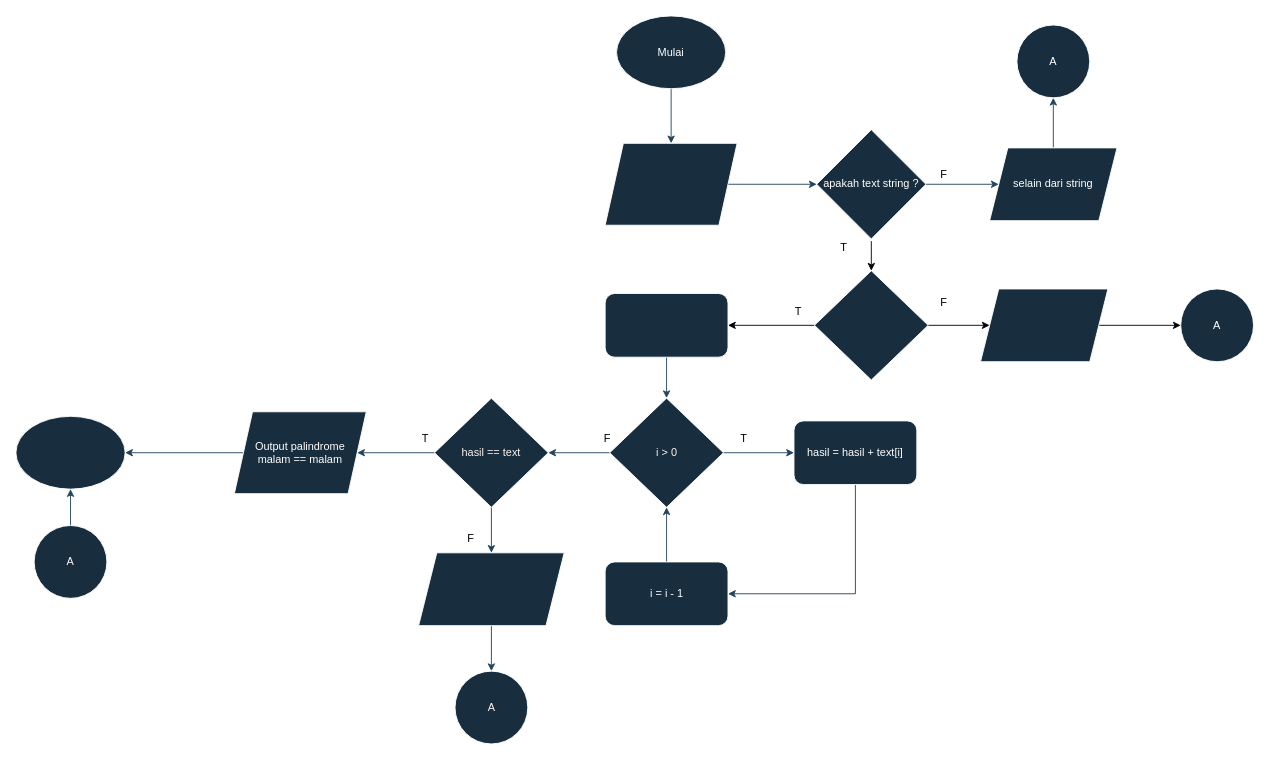
This 1269x760 diagram has some shape labels left out. Each missing label, with the centre of its shape:
i = text.length - 1: the point at 666,325
input text contoh "malam": the point at 670,183
Output bukan palindrome: the point at 491,589
output harus lebih dari 2 huruf: the point at 1044,325
Selesai: the point at 70,452
text.length > 2: the point at 871,325
